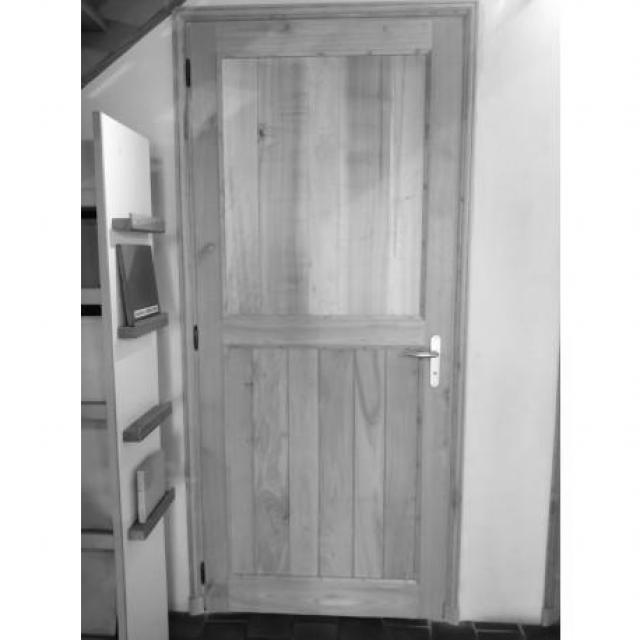door: (178, 3, 476, 624)
